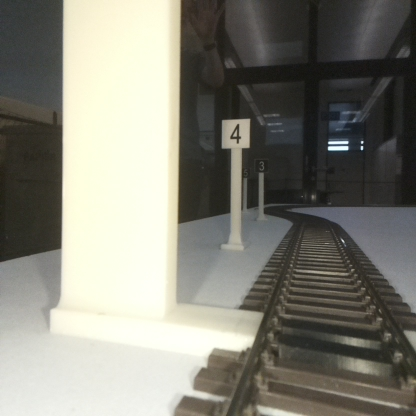black-info-3: (254, 158, 268, 220)
white-info-4: (222, 119, 250, 247)
